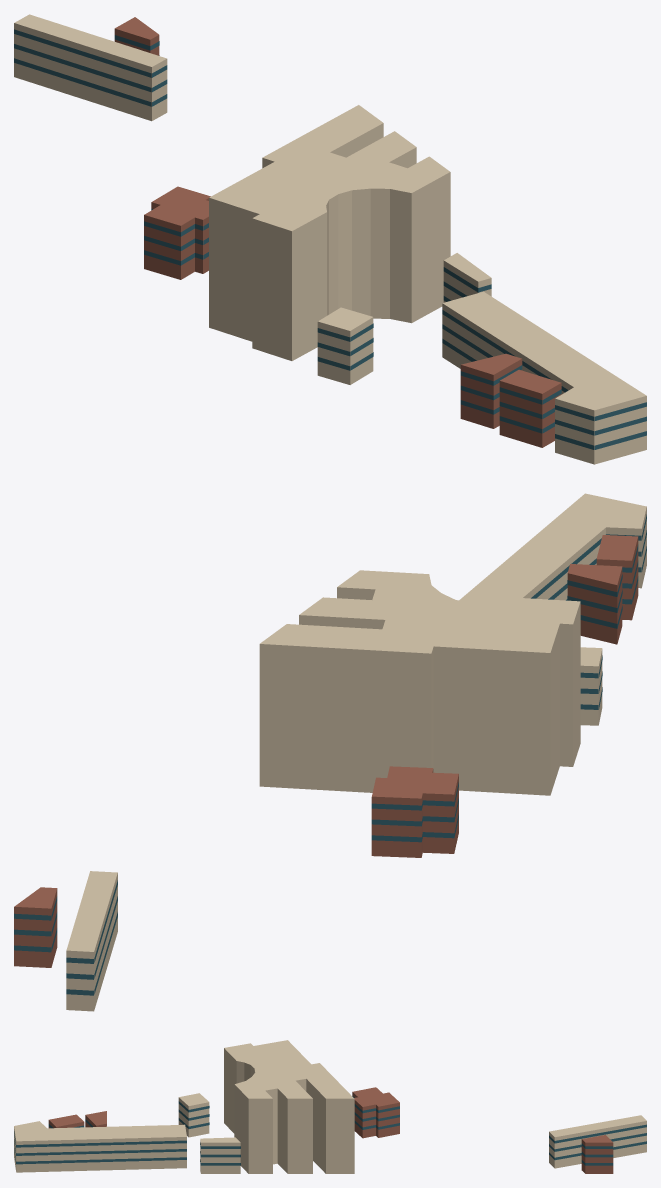
The model's file is city_10_-2.glb.
3 renders of one model, top to bottom at view 1: azimuth 30°, elevation 25°; view 2: azimuth 150°, elevation 25°; view 3: azimuth 270°, elevation 25°, orthographic. The views are drawn at different scales.
Visible parts, largest first — view 1: city_10_-2; view 2: city_10_-2; view 3: city_10_-2.
Part boxes in pixels (<box>): city_10_-2: <box>14,14,646,464</box>; city_10_-2: <box>14,493,646,1011</box>; city_10_-2: <box>14,1040,646,1173</box>.
Bounding box in the file's own units: 60.14 × 36 × 275.
